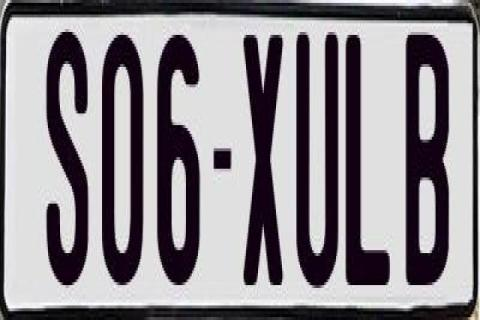0: (100, 26, 144, 291), (158, 29, 200, 297)
B: (402, 35, 446, 299)
L: (346, 26, 398, 291)
S: (46, 23, 90, 280)
U: (296, 32, 338, 288)
X: (243, 32, 284, 300)
